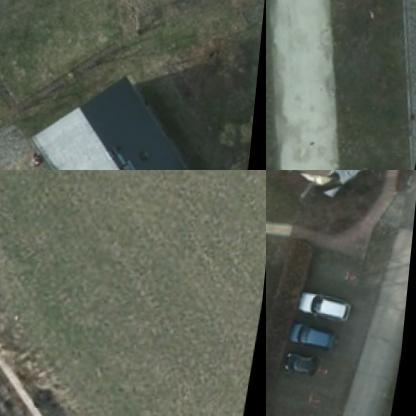car: (298, 278, 357, 313), (286, 316, 344, 348), (283, 344, 336, 368)
